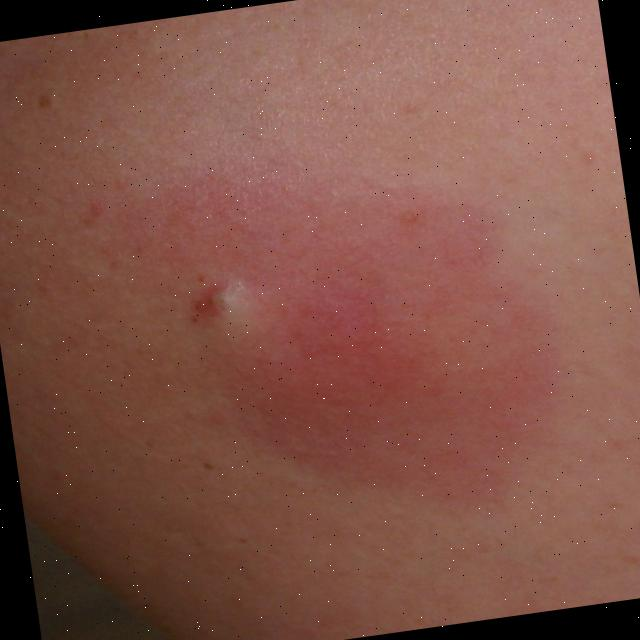kene: (73, 125, 601, 572)
